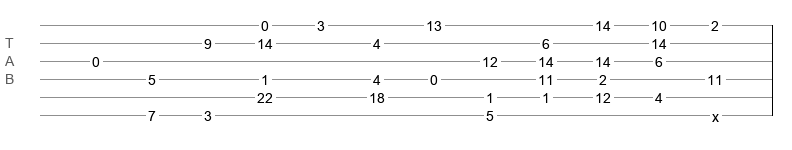0: (92, 54, 100, 64), (261, 18, 269, 28), (430, 72, 438, 82)
1: (261, 72, 269, 82), (486, 90, 494, 100), (542, 90, 550, 100)
10: (651, 18, 667, 28)
11: (538, 72, 554, 82), (707, 72, 723, 82)
12: (482, 54, 498, 64), (595, 90, 611, 100)
13: (426, 18, 442, 28)
14: (257, 36, 273, 46), (538, 54, 554, 64), (595, 18, 611, 28), (595, 54, 611, 64), (651, 36, 667, 46)
18: (369, 90, 385, 100)
2: (599, 72, 607, 82), (711, 18, 719, 28)
22: (257, 90, 273, 100)
3: (204, 108, 212, 118), (317, 18, 325, 28)
4: (373, 36, 381, 46), (373, 72, 381, 82), (655, 90, 663, 100)
5: (148, 72, 156, 82), (486, 108, 494, 118)
6: (542, 36, 550, 46), (655, 54, 663, 64)
7: (148, 108, 156, 118)
9: (204, 36, 212, 46)
x: (712, 109, 719, 117)
